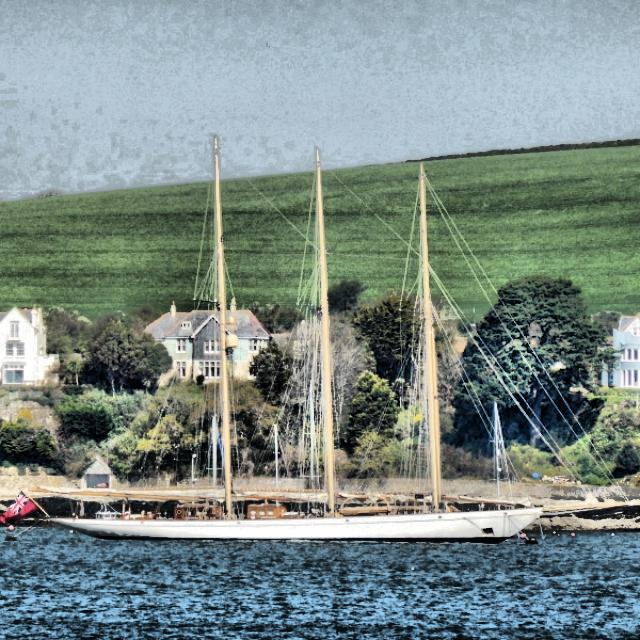sailing_vessel: (28, 132, 632, 544)
